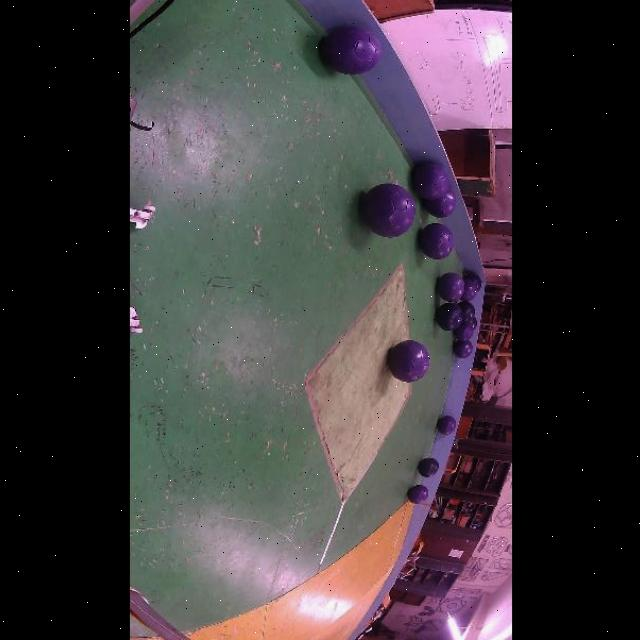B: (434, 302, 462, 330), (417, 458, 438, 478), (457, 301, 474, 322), (464, 272, 481, 290), (471, 318, 477, 330)
P: (321, 26, 380, 75), (360, 184, 414, 237), (386, 341, 429, 383), (411, 163, 449, 200), (418, 224, 453, 260), (422, 189, 455, 218), (435, 273, 463, 302), (406, 484, 427, 504), (435, 415, 455, 435), (453, 322, 473, 341), (460, 278, 475, 302), (451, 341, 471, 358)
